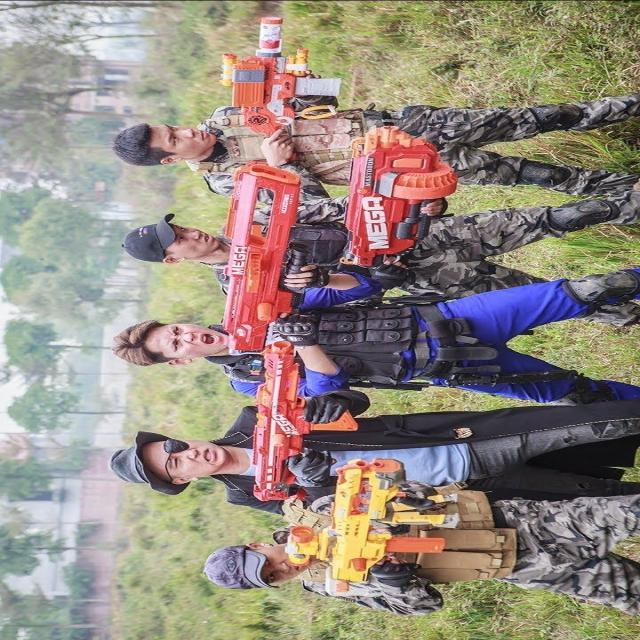Nerf gun: (280, 458, 464, 604), (332, 122, 473, 274), (236, 339, 362, 505), (212, 160, 312, 354), (216, 12, 348, 144)
